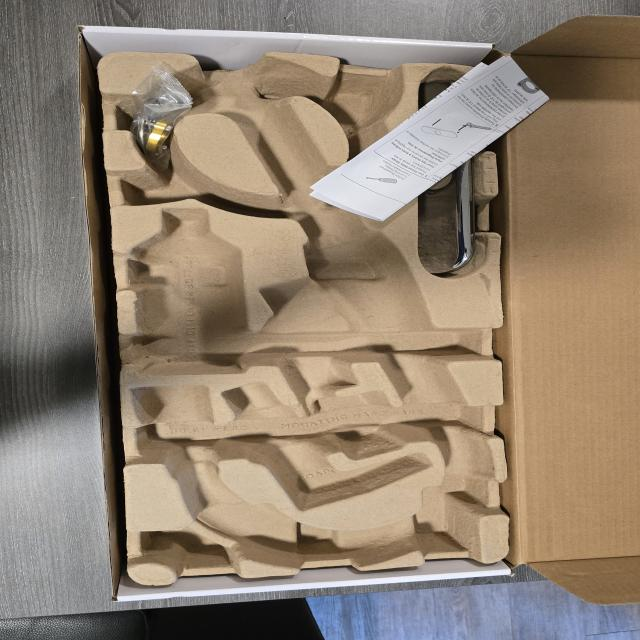1m: (132, 50, 493, 569)
2m: (222, 382, 431, 509)
3m: (129, 208, 241, 372)
4o: (409, 80, 476, 274)
5m: (326, 76, 396, 128)
6: (117, 58, 200, 175)
7m: (125, 165, 245, 209)
8: (308, 54, 552, 221)
